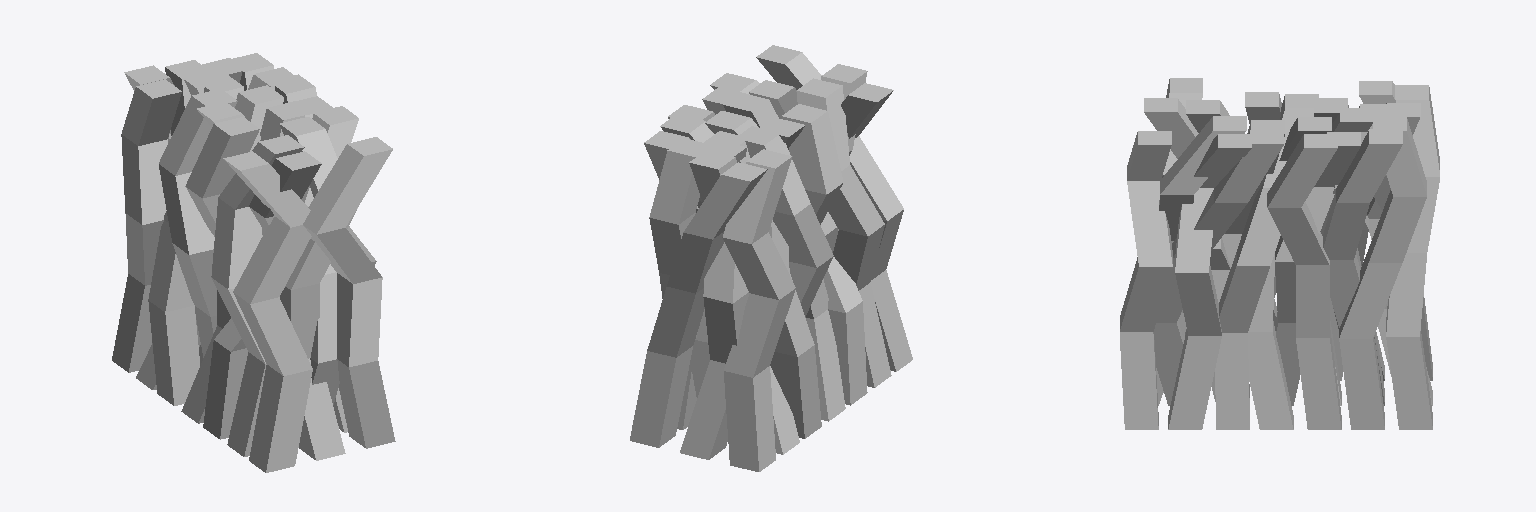
The model's file is papas_1.obj.
3 views of the same model, side by side, from view 1: azimuth 30°, elevation 25°; view 2: azimuth 150°, elevation 25°; view 3: azimuth 270°, elevation 25° (orthographic).
Visible parts, largest first — view 1: Cubo.037_Cubo.013; view 2: Cubo.037_Cubo.013; view 3: Cubo.037_Cubo.013.
Boxes of the visible parts, x1=… form: Cubo.037_Cubo.013: x1=112, y1=53, x2=395, y2=472; Cubo.037_Cubo.013: x1=630, y1=45, x2=912, y2=471; Cubo.037_Cubo.013: x1=1120, y1=78, x2=1439, y2=429.
Size of the model in its own units: 0.0732 by 0.1392 by 0.1406.